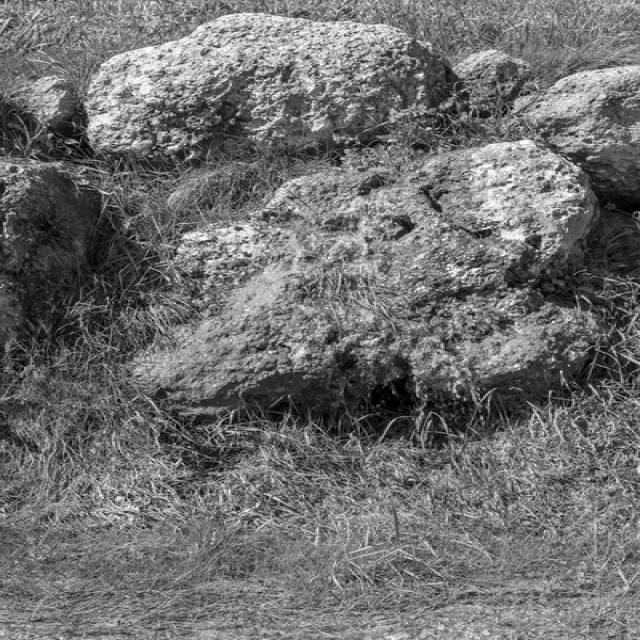Stone: (131, 141, 600, 415), (84, 13, 446, 162), (483, 48, 640, 172), (0, 159, 98, 341)
